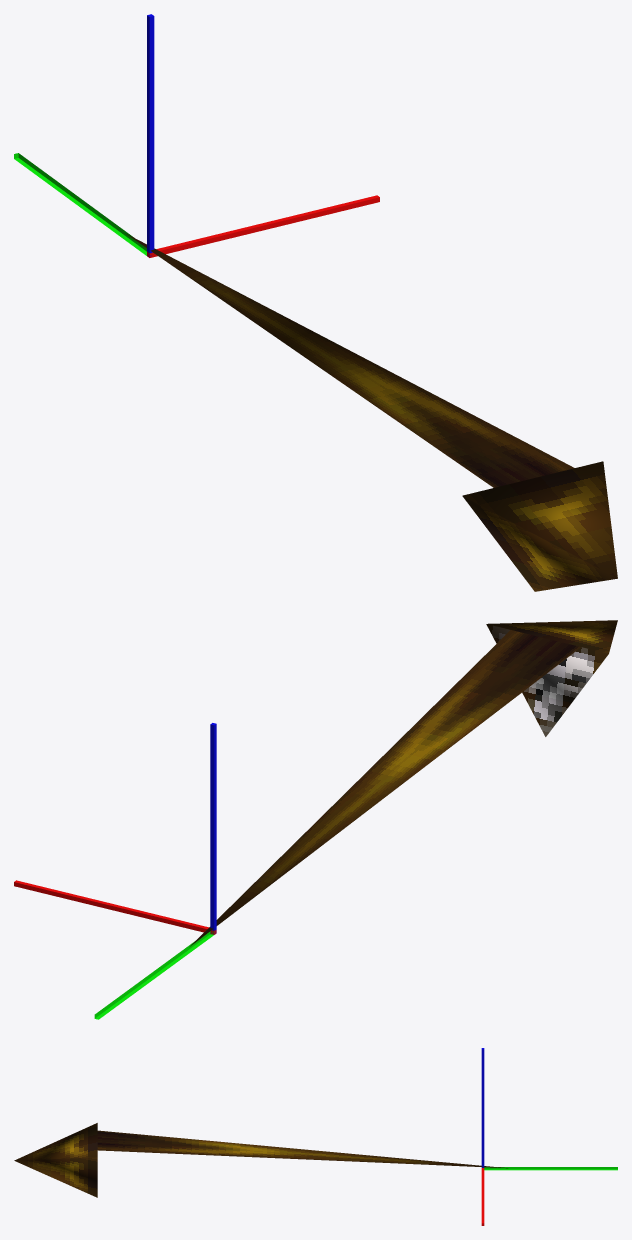
The model's file is sling.glb.
The picture shows the model from 3 angles, top to bottom: view 1: azimuth 30°, elevation 25°; view 2: azimuth 150°, elevation 25°; view 3: azimuth 270°, elevation 25°; orthographic projection. The views are drawn at different scales.
Parts seen in each view (by area): view 1: attachments a slingModel, Dummy_hotspot; view 2: attachments a slingModel, Dummy_hotspot; view 3: attachments a slingModel, Dummy_hotspot.
Boxes of the visible parts, x1,y1,x2,y2 form: attachments a slingModel: (125,233,617,591); Dummy_hotspot: (14,14,379,257); attachments a slingModel: (190,620,617,946); Dummy_hotspot: (14,723,216,1019); attachments a slingModel: (14,1123,507,1197); Dummy_hotspot: (481,1048,617,1225).
Size of the model in its own units: 0.3252 by 0.3071 by 1.13.
Materials: 2 (1 with a texture image).
